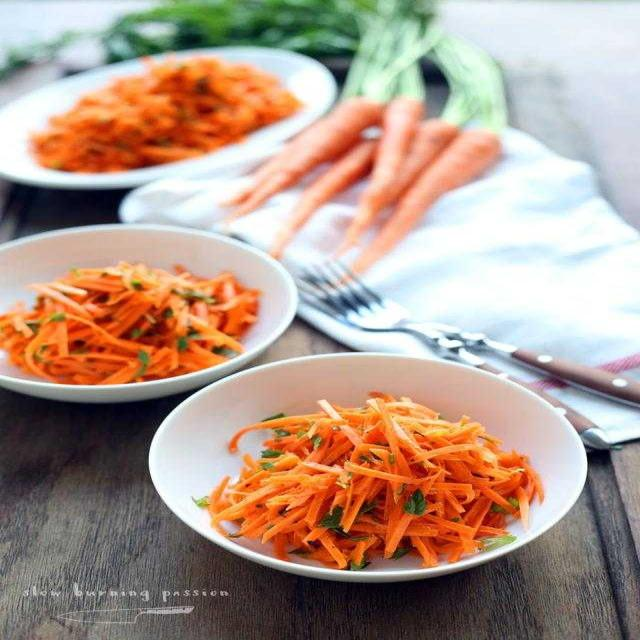carrots: (227, 95, 542, 269)
